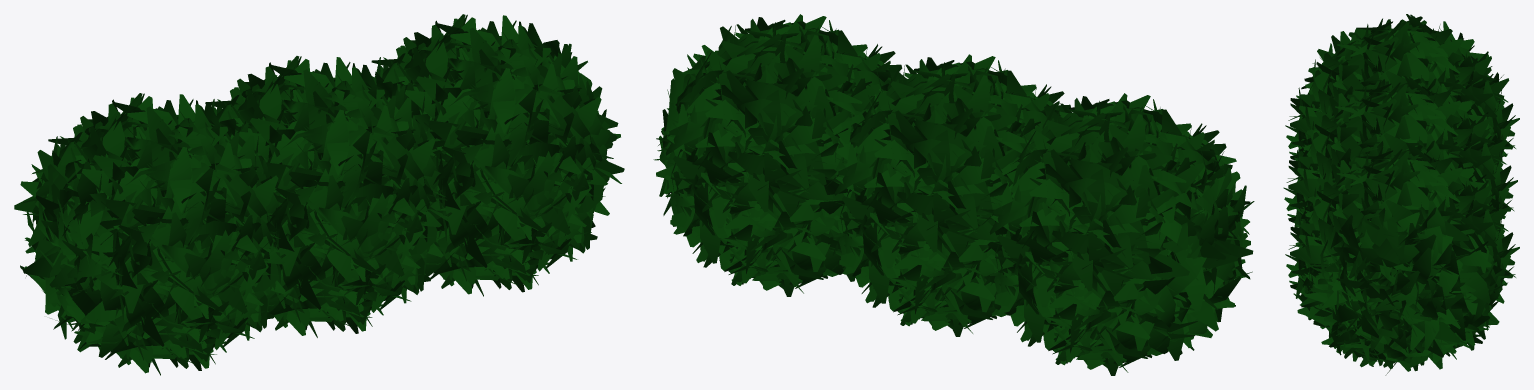
File: Wall1.obj
3 renders of one model, left to right at view 1: azimuth 30°, elevation 25°; view 2: azimuth 150°, elevation 25°; view 3: azimuth 270°, elevation 25°, orthographic. The views are drawn at different scales.
Visible parts, largest first — view 1: Плоскость.002; view 2: Плоскость.002; view 3: Плоскость.002.
Boxes of the visible parts, x1,y1,x2,y2 form: Плоскость.002: (14,14,624,375); Плоскость.002: (653,14,1254,375); Плоскость.002: (1283,14,1519,375).
Bounding box in the file's own units: 5.78 × 2.53 × 2.56.
